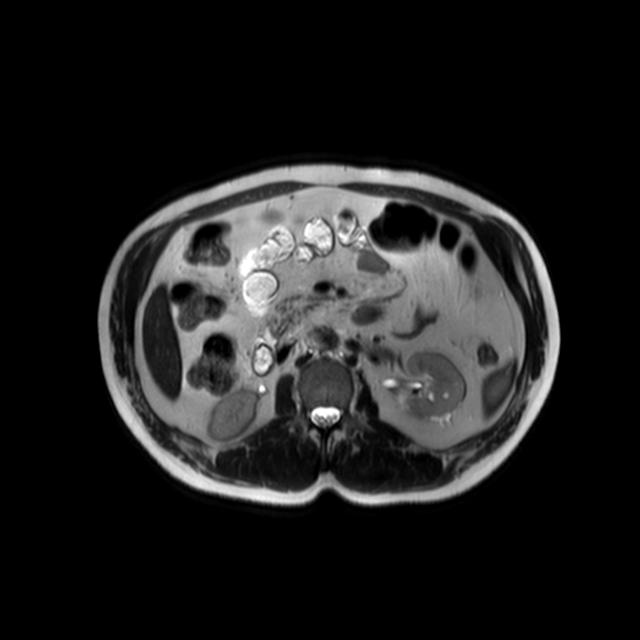sag: (207, 385, 270, 442)
sol: (406, 348, 469, 421)
